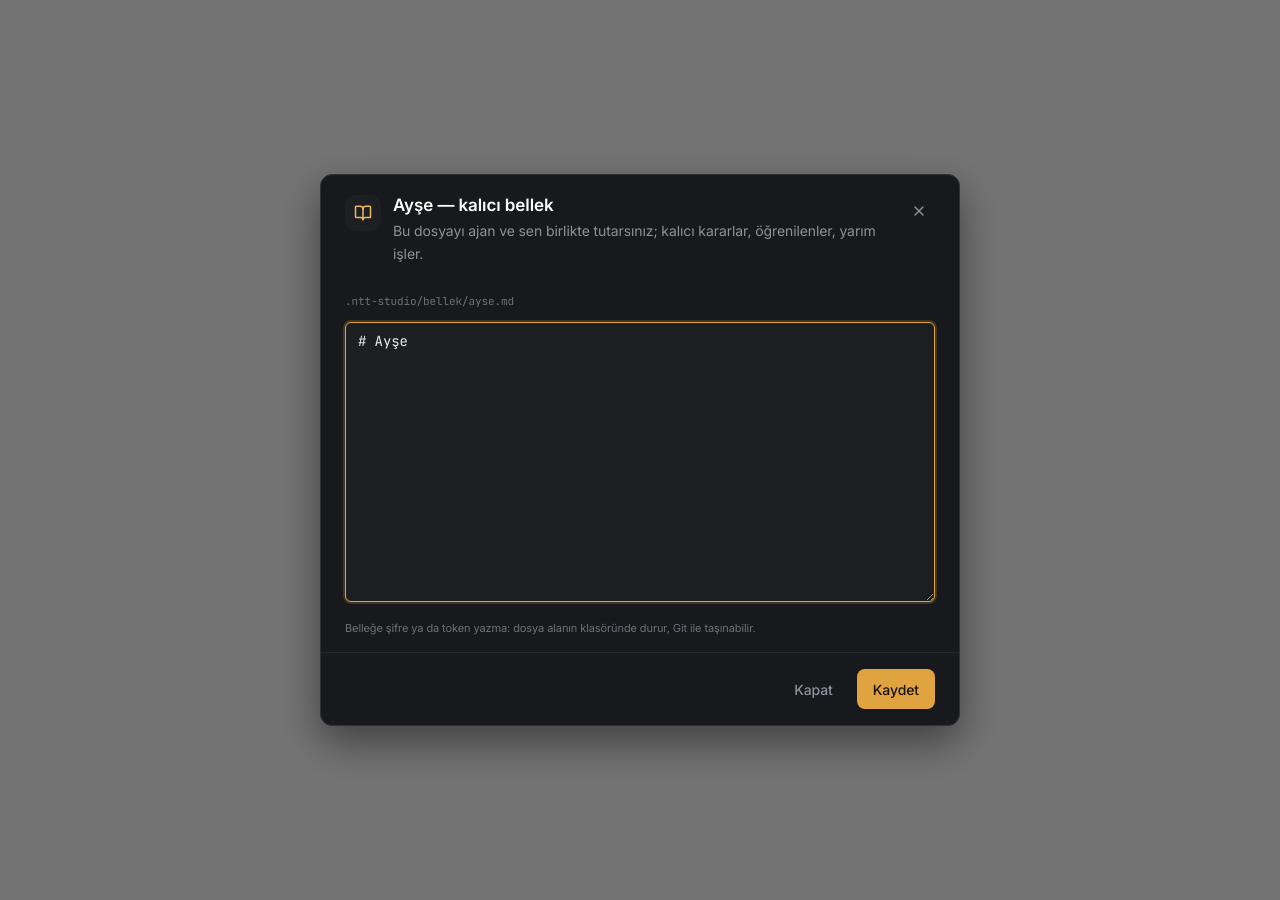
Test: MemoryDialog › yazılamadı: hata satırı, metin pencerede, pencere açık
The image size is (1280, 900).
Step 1. Replace the text in the text box with "metnim" → (640, 462), box [345,322,935,602]
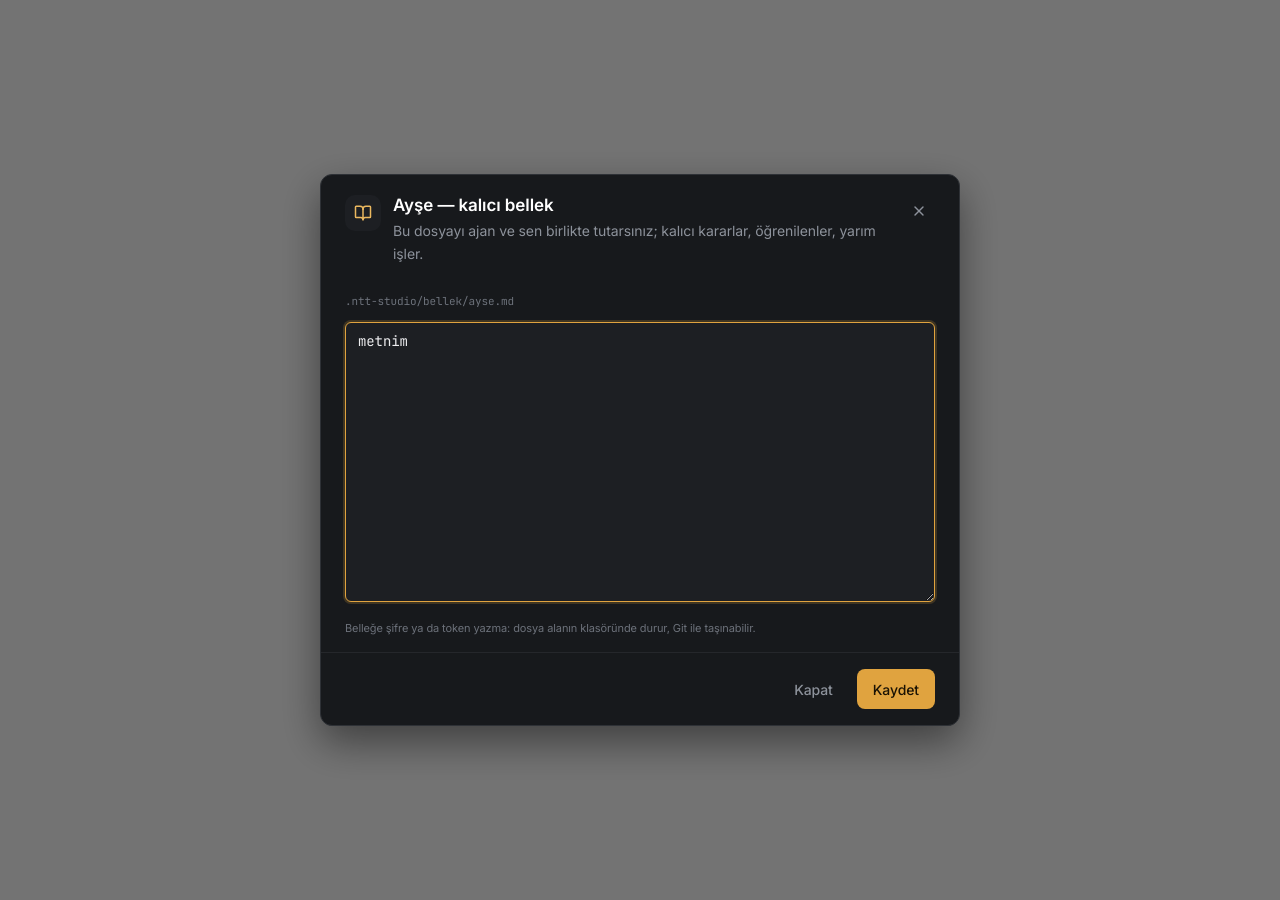
Step 2. Click the button "Kaydet" → (896, 689), box [857,669,935,709]
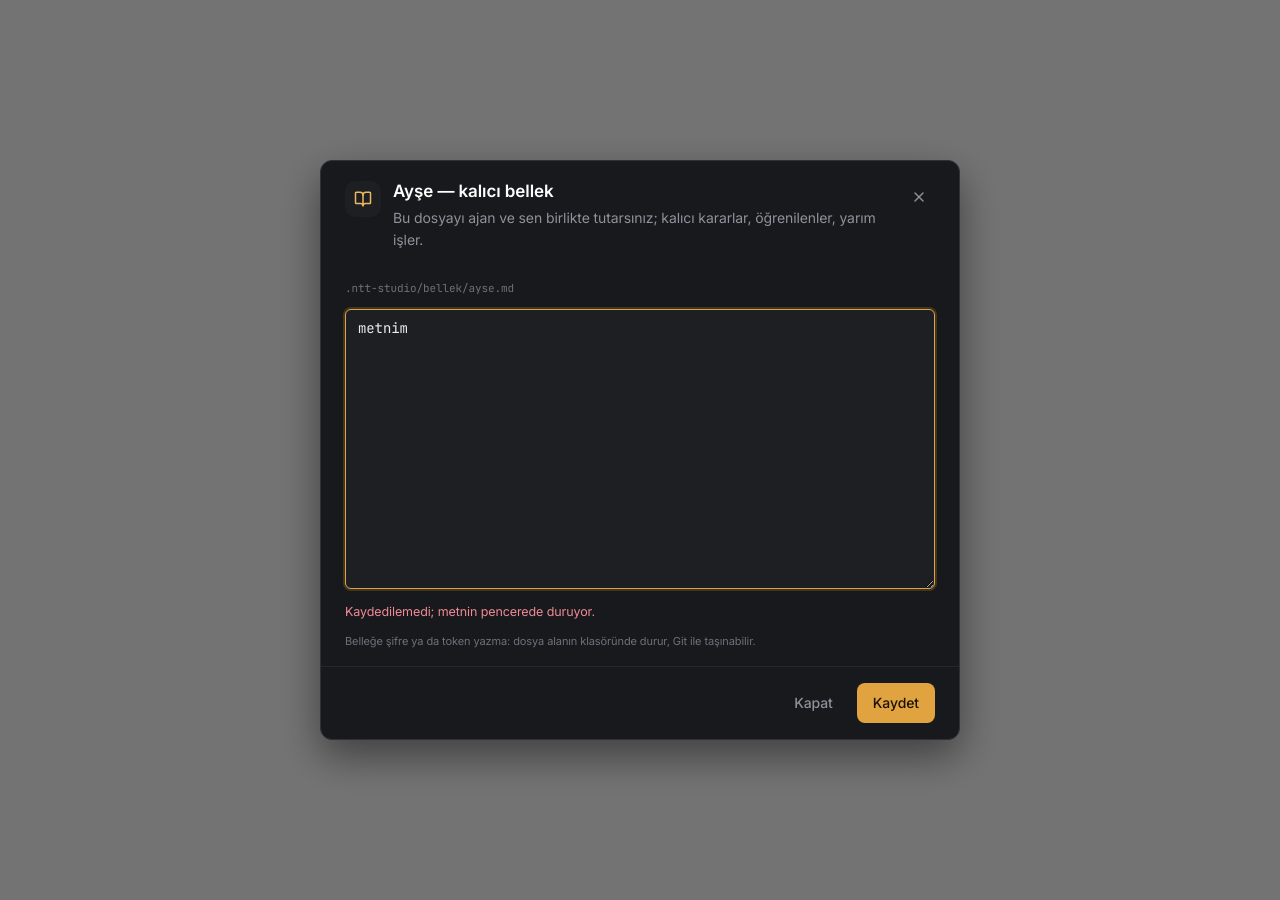
Check: the text "Kaydedilemedi; metnin pencerede duruyor." is shown, box [345,604,595,618]
